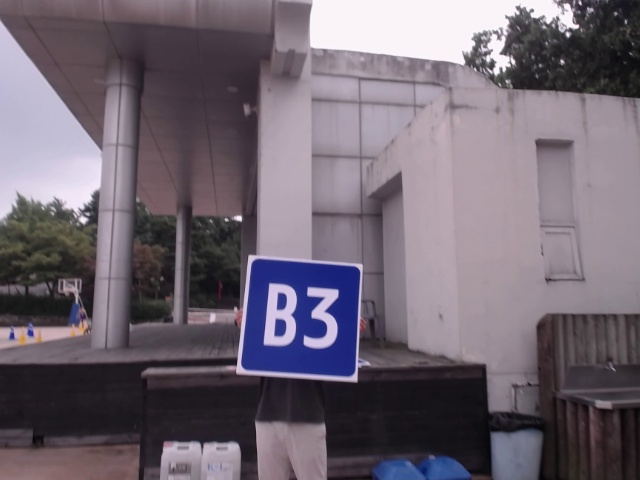delivery_b3: (244, 259, 359, 380)
